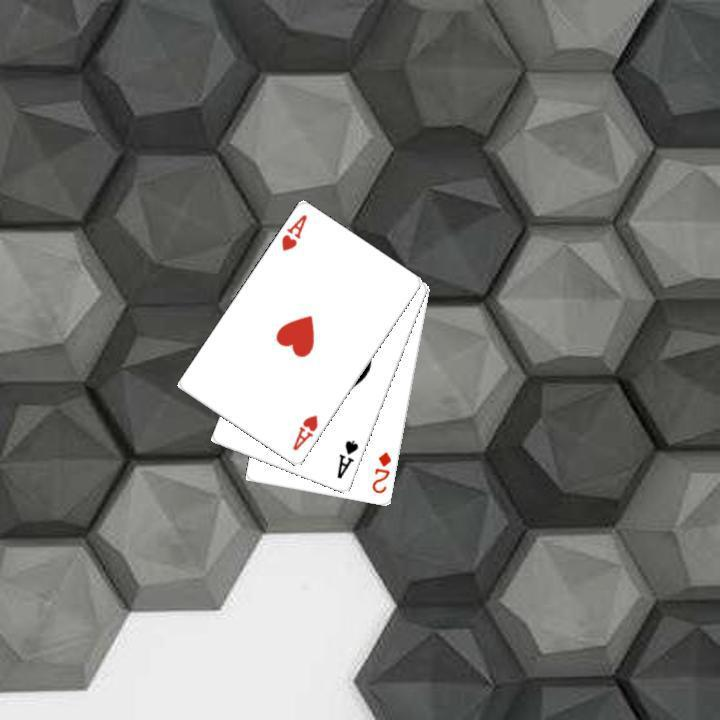2: (368, 448, 393, 496)
A: (277, 210, 309, 253), (288, 411, 320, 453), (333, 436, 361, 481)
